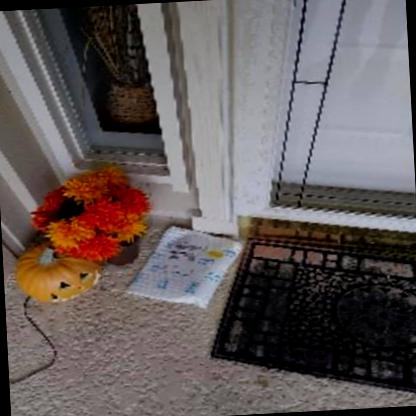plastic_bag: (123, 222, 242, 311)
